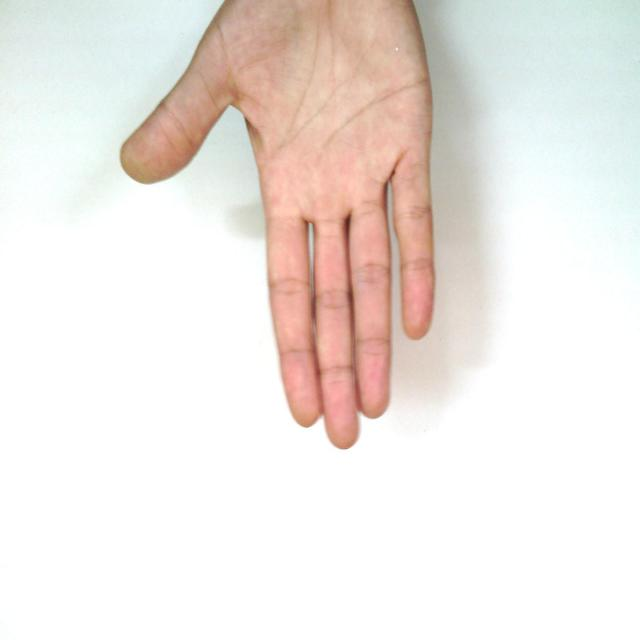others: (116, 0, 541, 479)
